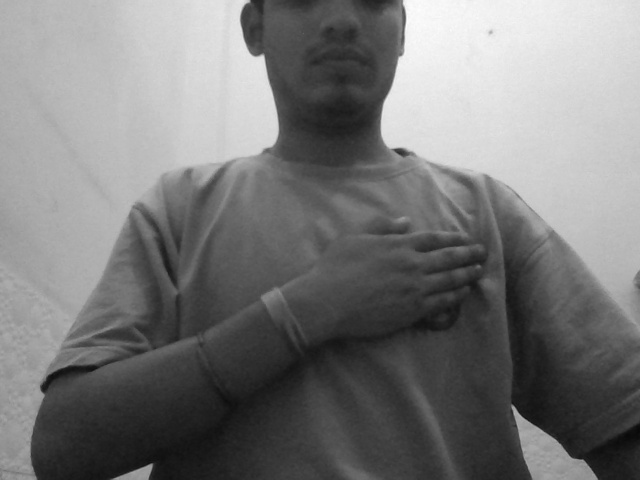Sorry: (246, 193, 510, 374)
